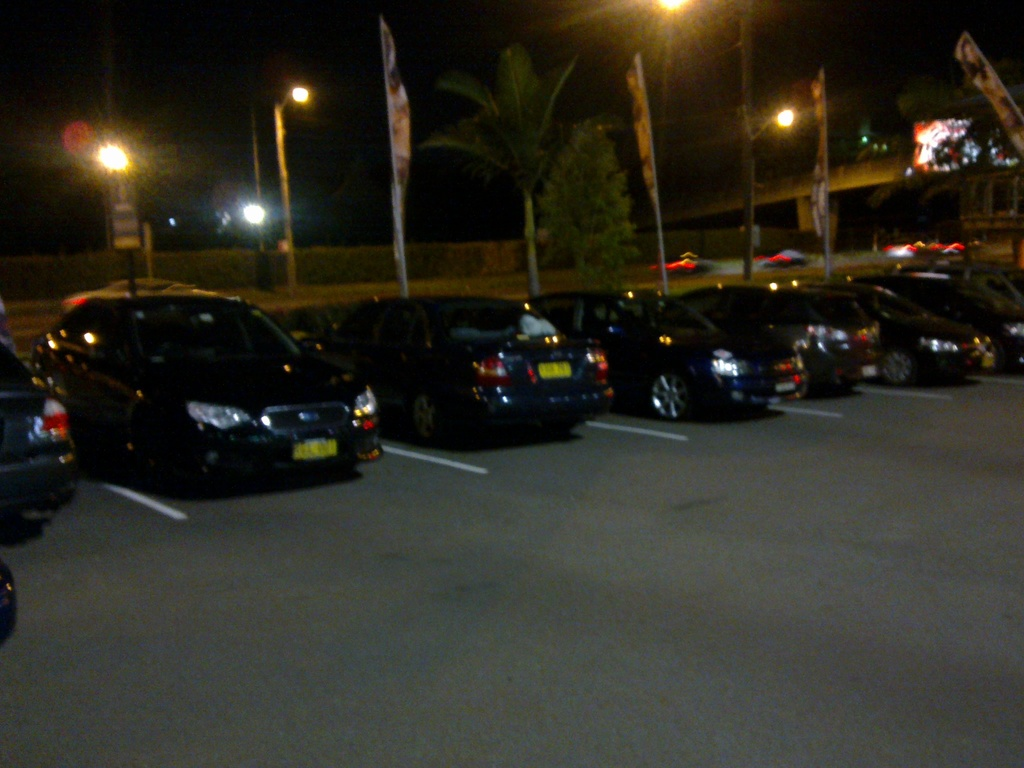Car: (19, 276, 386, 503), (548, 263, 1023, 425), (307, 298, 605, 442), (0, 336, 83, 503), (0, 563, 22, 648)
